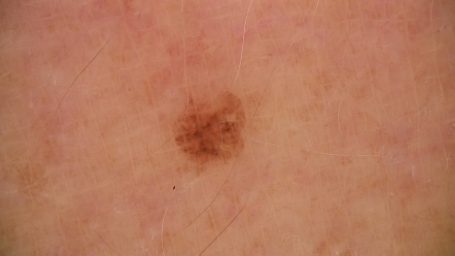nevus: (176, 91, 242, 161)
